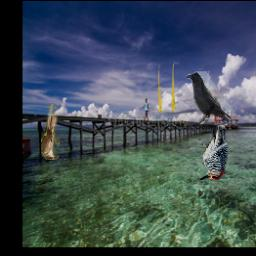Crow: (186, 72, 232, 125)
Cuckoo: (40, 104, 59, 160)
Woodpecker: (198, 125, 230, 183)
